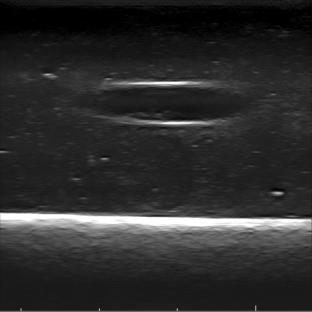vessel: (98, 81, 248, 126)
